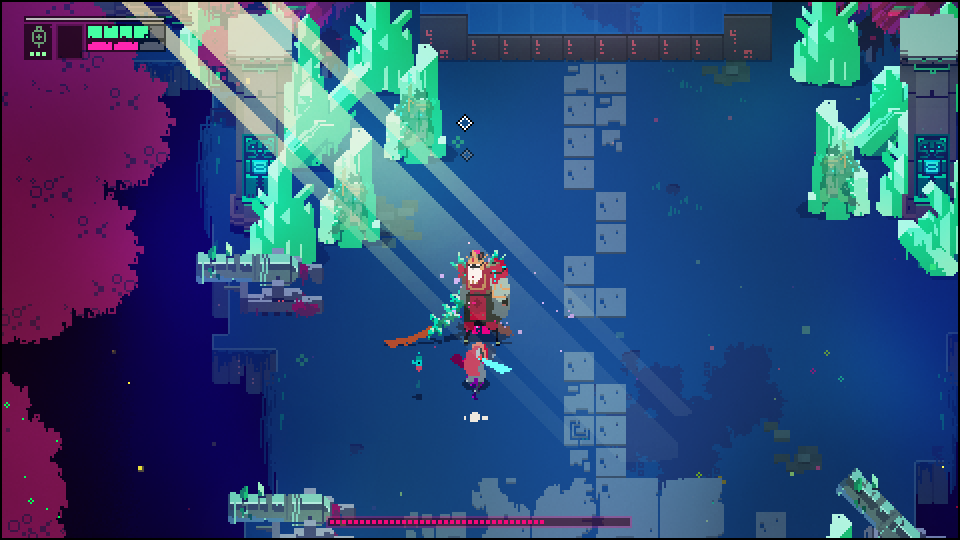hanged_man: (422, 240, 522, 345)
player: (457, 333, 515, 392)
